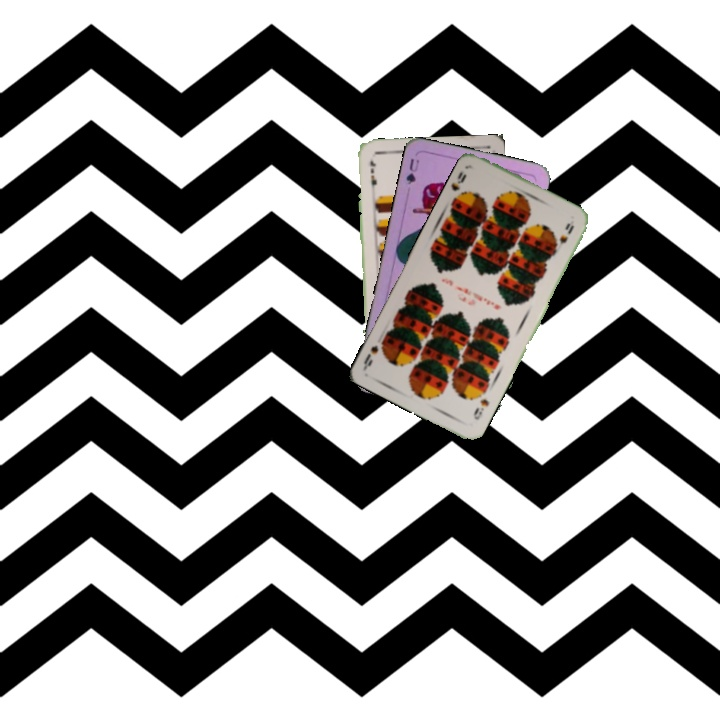E7: (366, 156, 379, 194)
GU: (402, 154, 422, 187)
S9: (469, 395, 492, 423), (447, 167, 469, 194)
